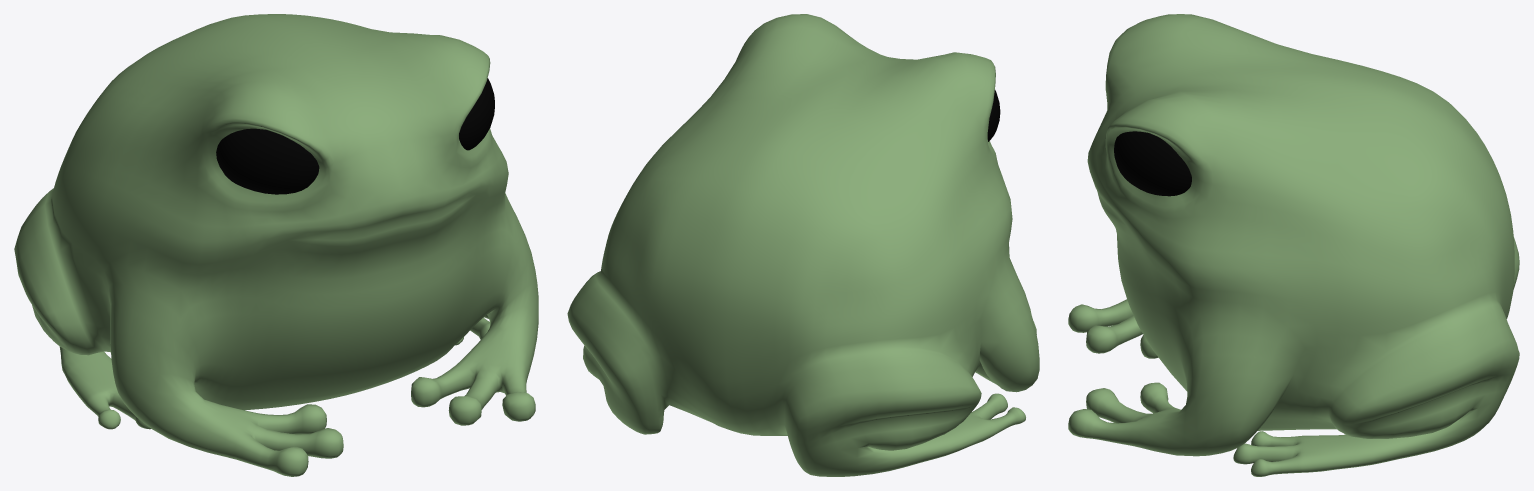
Rendered from frog_low_uvs.fbx.
3 views of the same model, side by side, from view 1: azimuth 30°, elevation 25°; view 2: azimuth 150°, elevation 25°; view 3: azimuth 270°, elevation 25° (orthographic). The views are drawn at different scales.
Visible parts, largest first — view 1: frog_low, eyes_low; view 2: frog_low; view 3: frog_low, eyes_low.
Part boxes in pixels (x1,y1,x2,y2): frog_low: [14, 14, 538, 476]; eyes_low: [216, 78, 494, 194]; frog_low: [567, 14, 1039, 476]; frog_low: [1068, 14, 1519, 476]; eyes_low: [1114, 131, 1191, 196].
Bounding box in the file's own units: 205 × 157 × 199.
